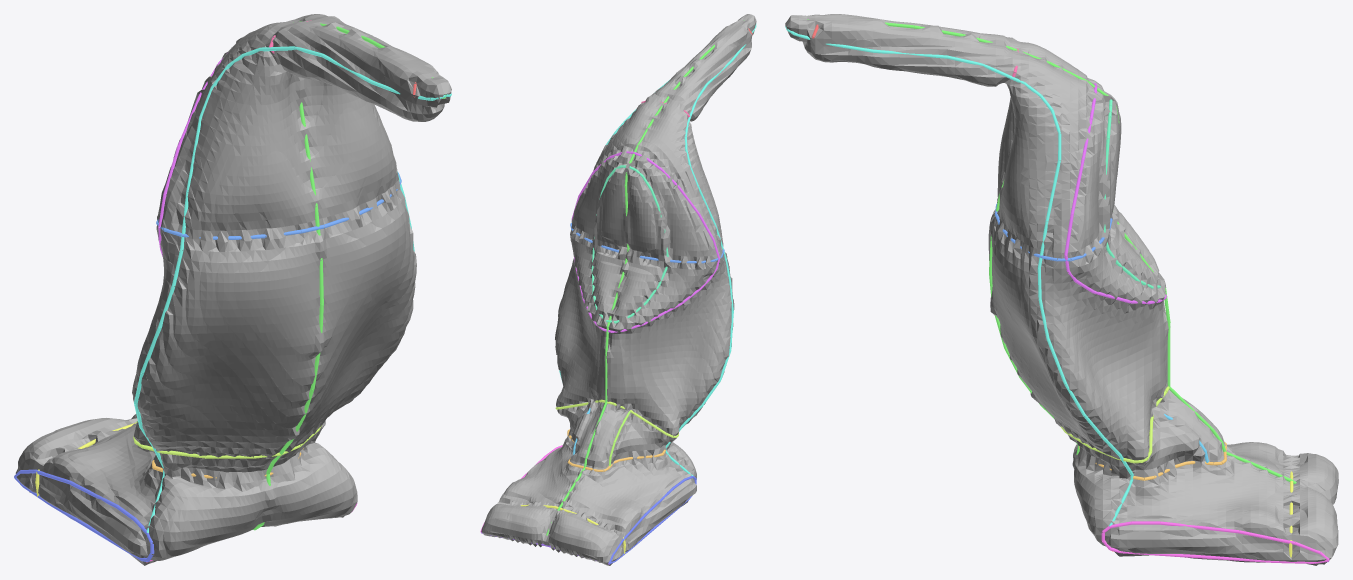
File: t2f_vacuum.gltf
3 renders of one model, left to right at view 1: azimuth 30°, elevation 25°; view 2: azimuth 150°, elevation 25°; view 3: azimuth 270°, elevation 25°, orthographic. The views are drawn at different scales.
Bounding box in the file's own units: 0.317 × 0.6928 × 0.6791.
